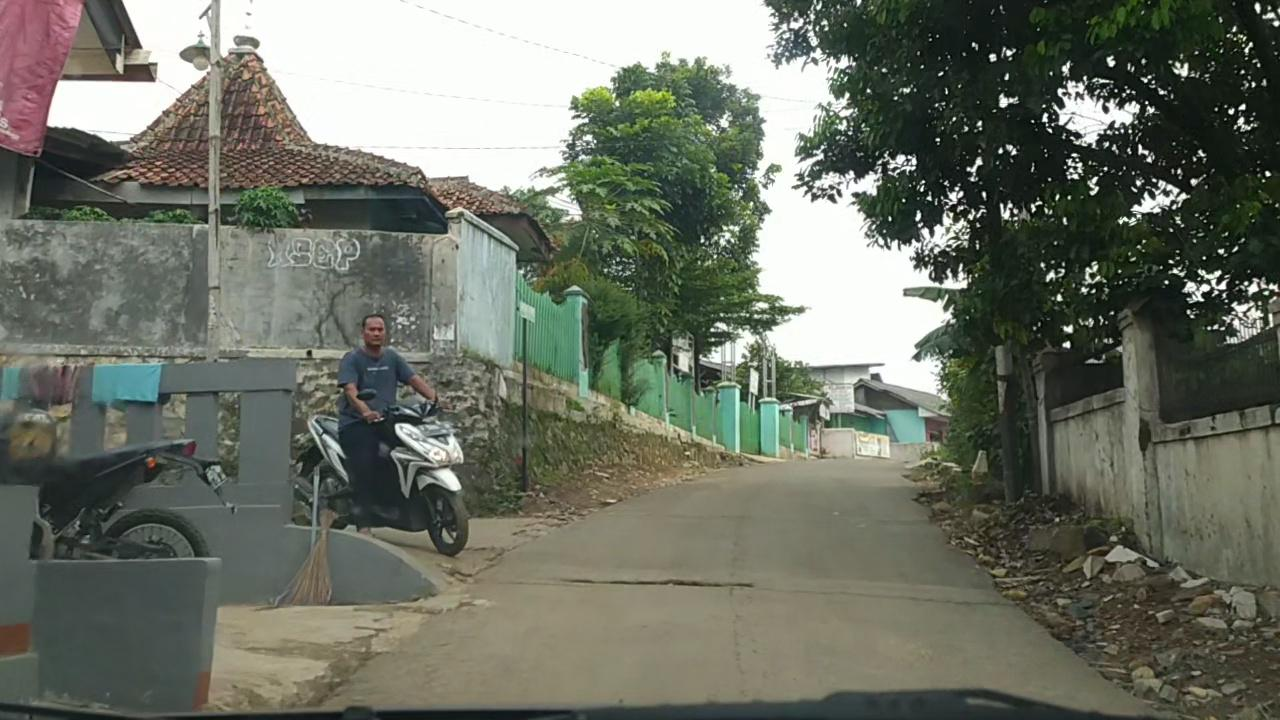pothole: (560, 577, 758, 589)
